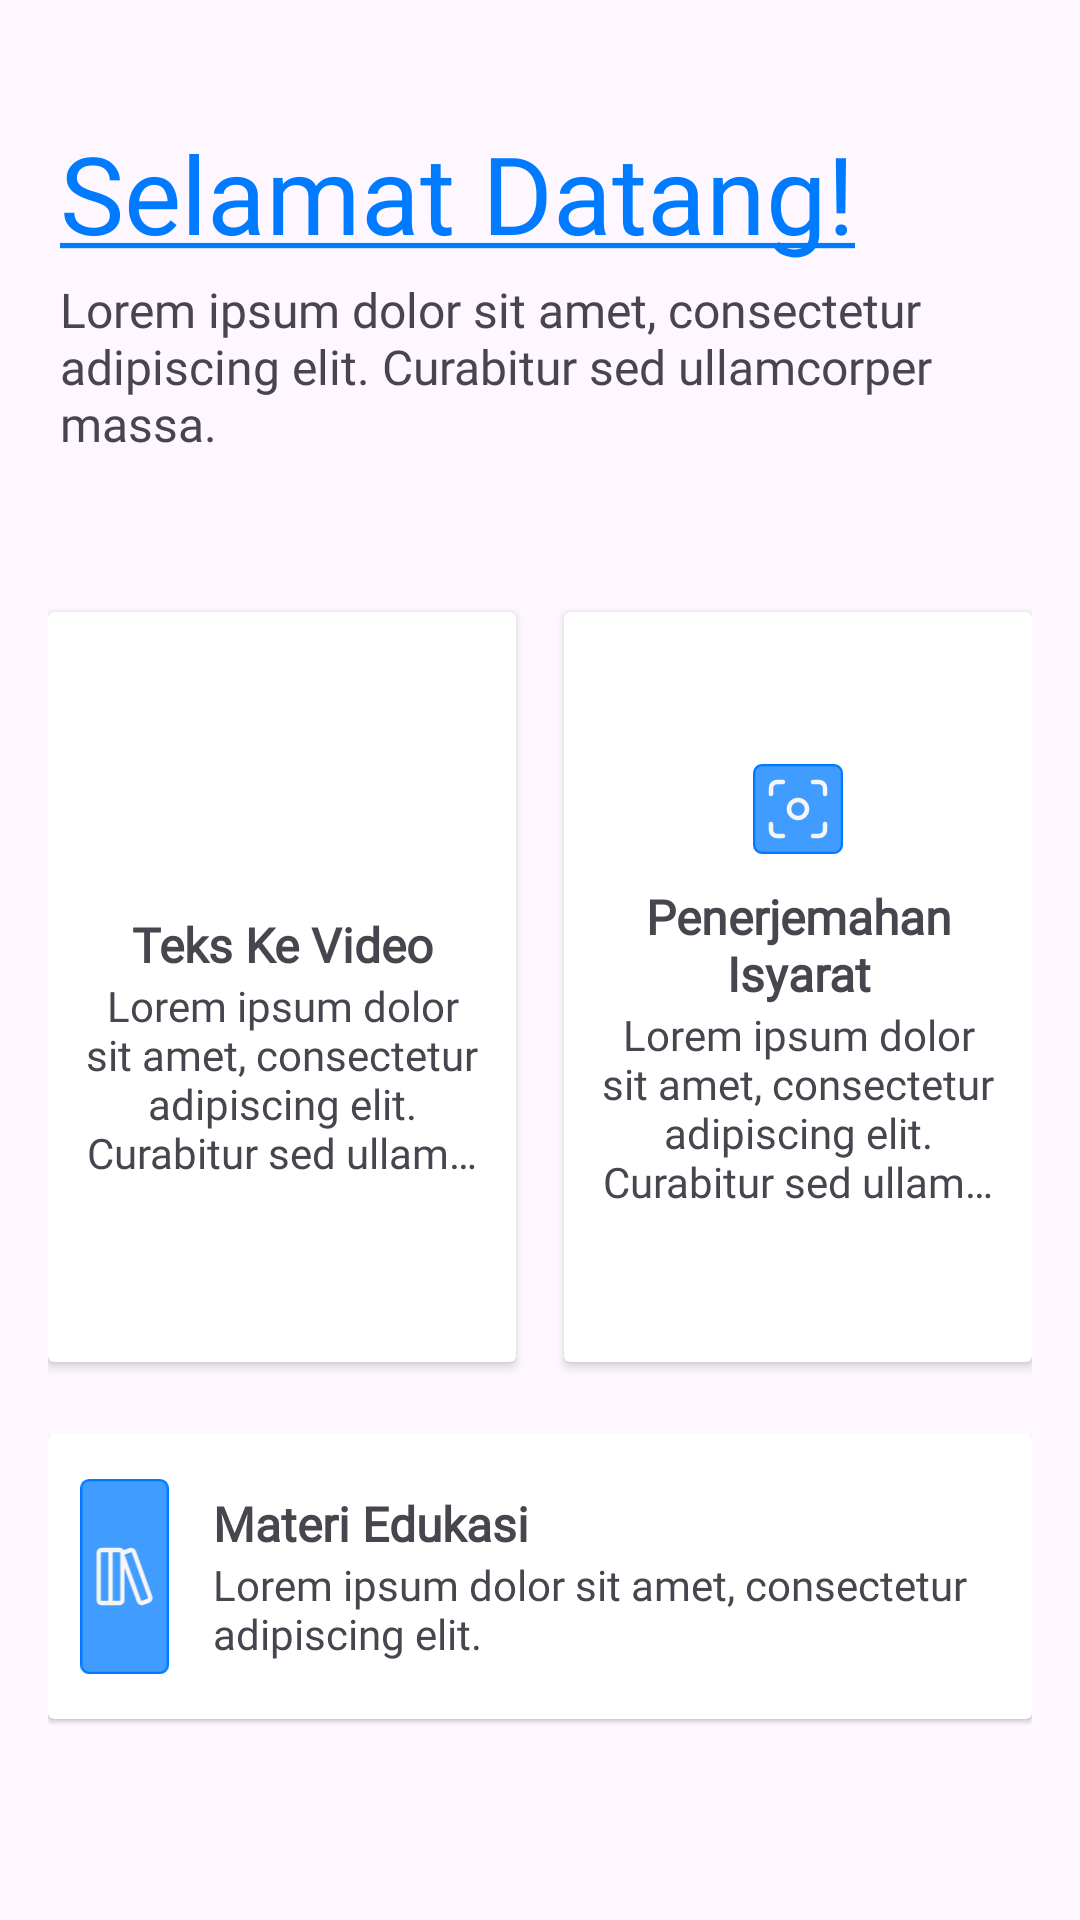

Point at icon controls on the screen. Image size 1080x1920, points as point (x, y).
deteksiisyarat: point (798, 809)
